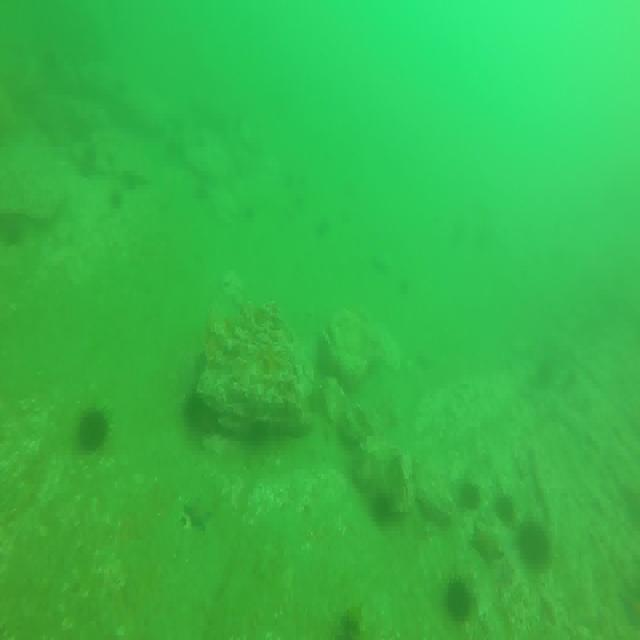echinus: (518, 521, 551, 569), (76, 408, 107, 456), (446, 577, 472, 624), (334, 608, 368, 640), (458, 476, 483, 511), (492, 492, 516, 527), (0, 212, 22, 248), (108, 185, 125, 211)
starfish: (182, 495, 213, 531)
